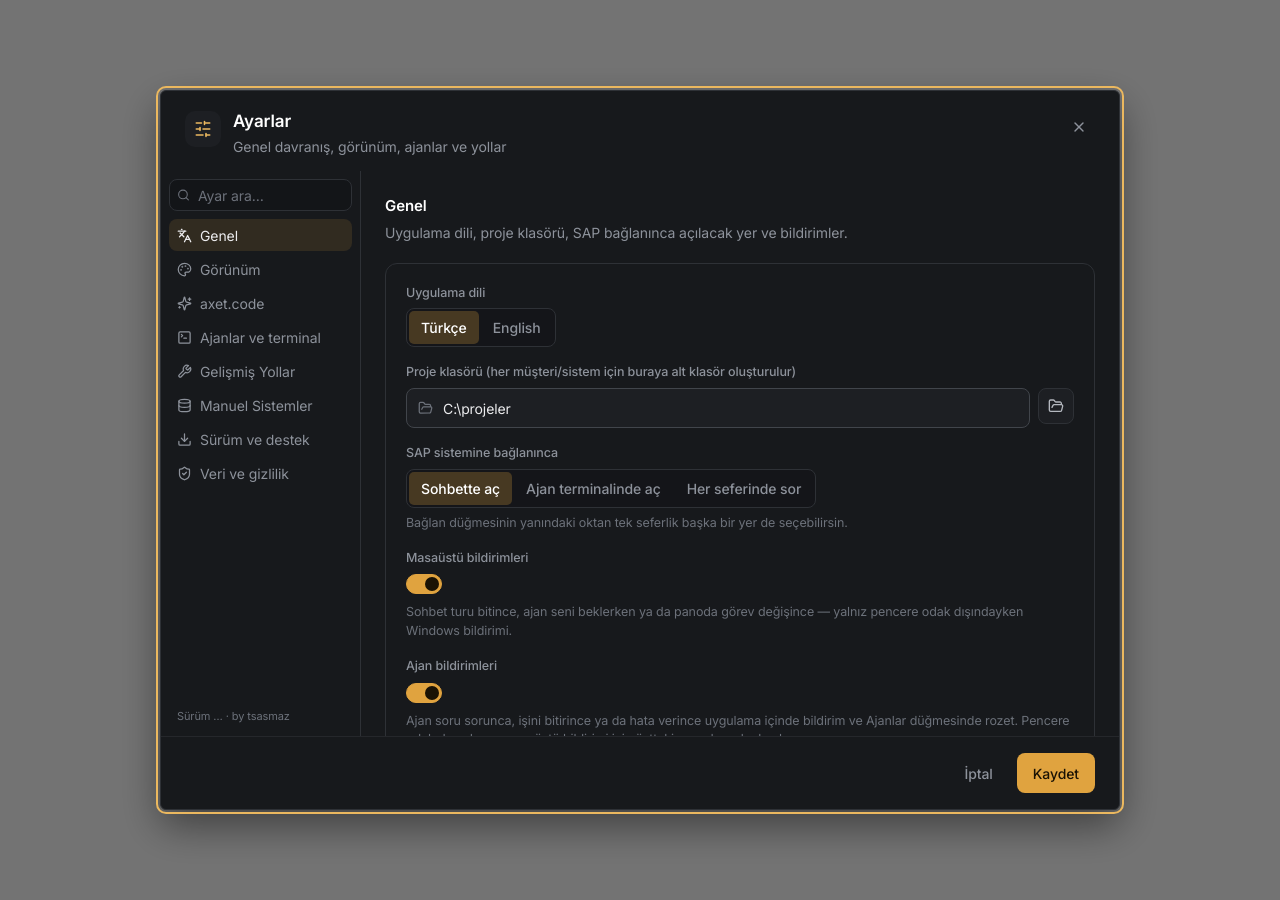
Ayarlar — eklenen alanlar › destek adresi Sürüm ve destek'te, Gelişmiş Yollar'da değil
The width and height of the screenshot is (1280, 900).
Click the tab "Gelişmiş Yollar": click(260, 371) [169,355,352,387]
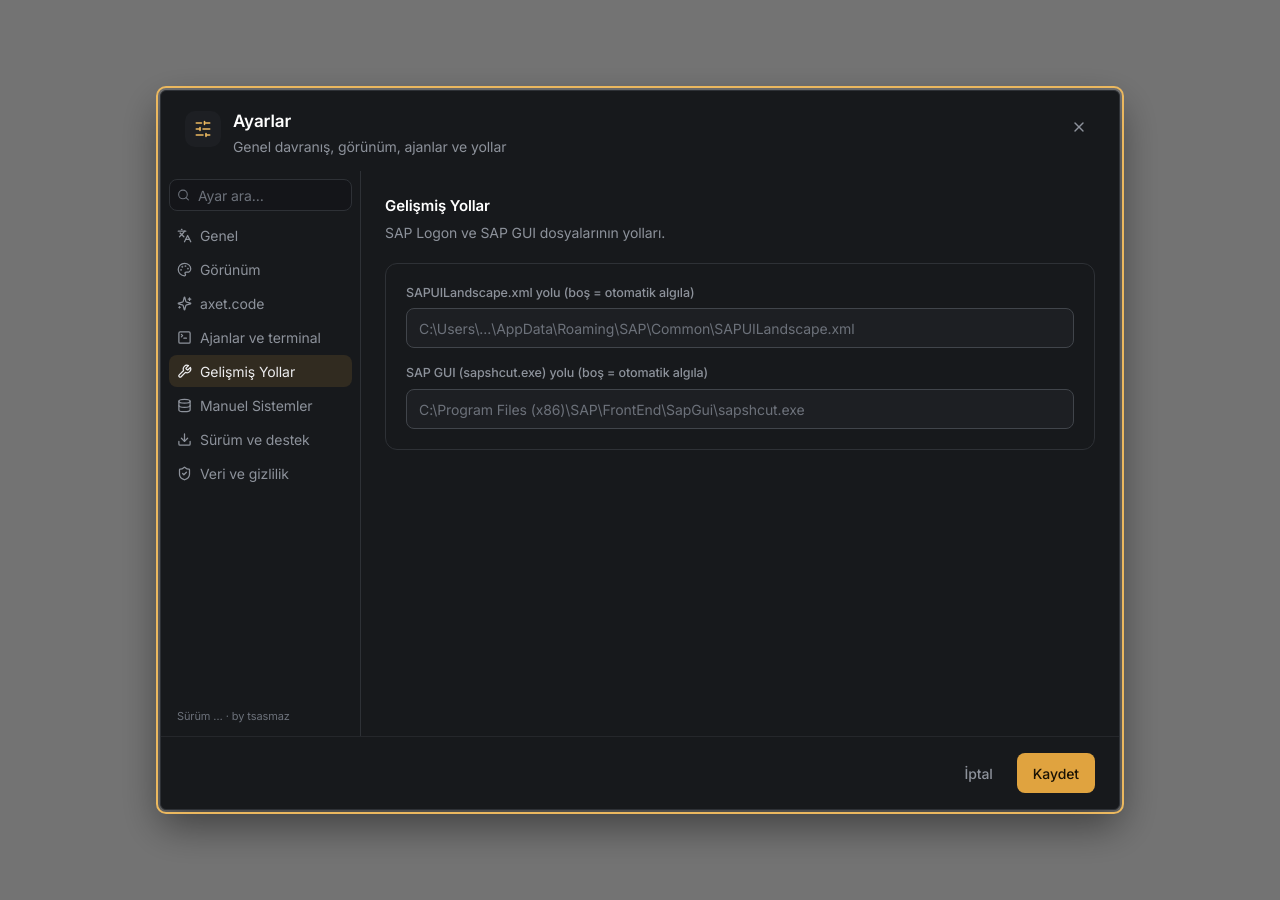
Expected: the text "Destek e-posta adresi" is not shown
Click the tab "Sürüm ve destek": click(260, 439) [169,423,352,455]
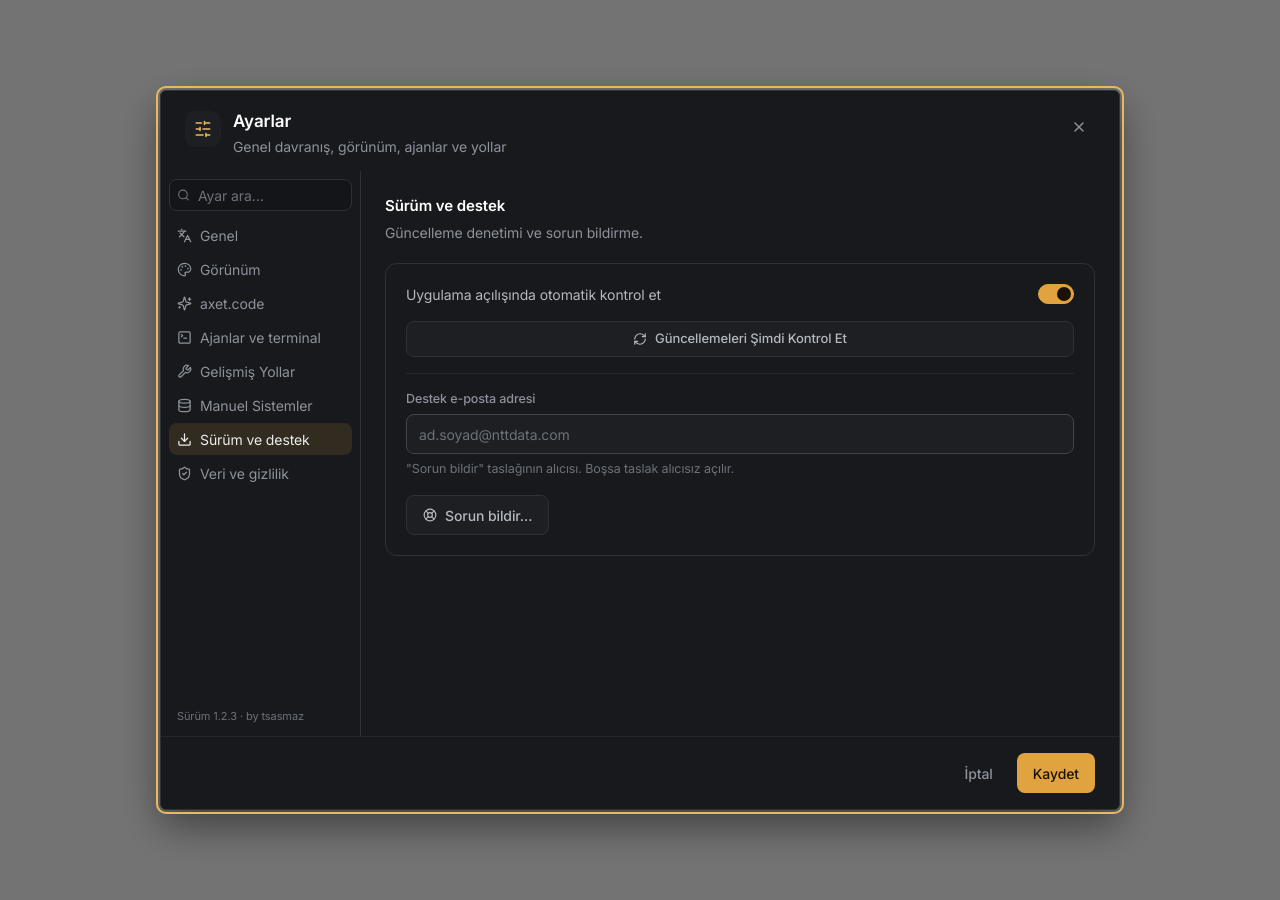
Expected: the text "Destek e-posta adresi" is shown, [406,390,535,406]
